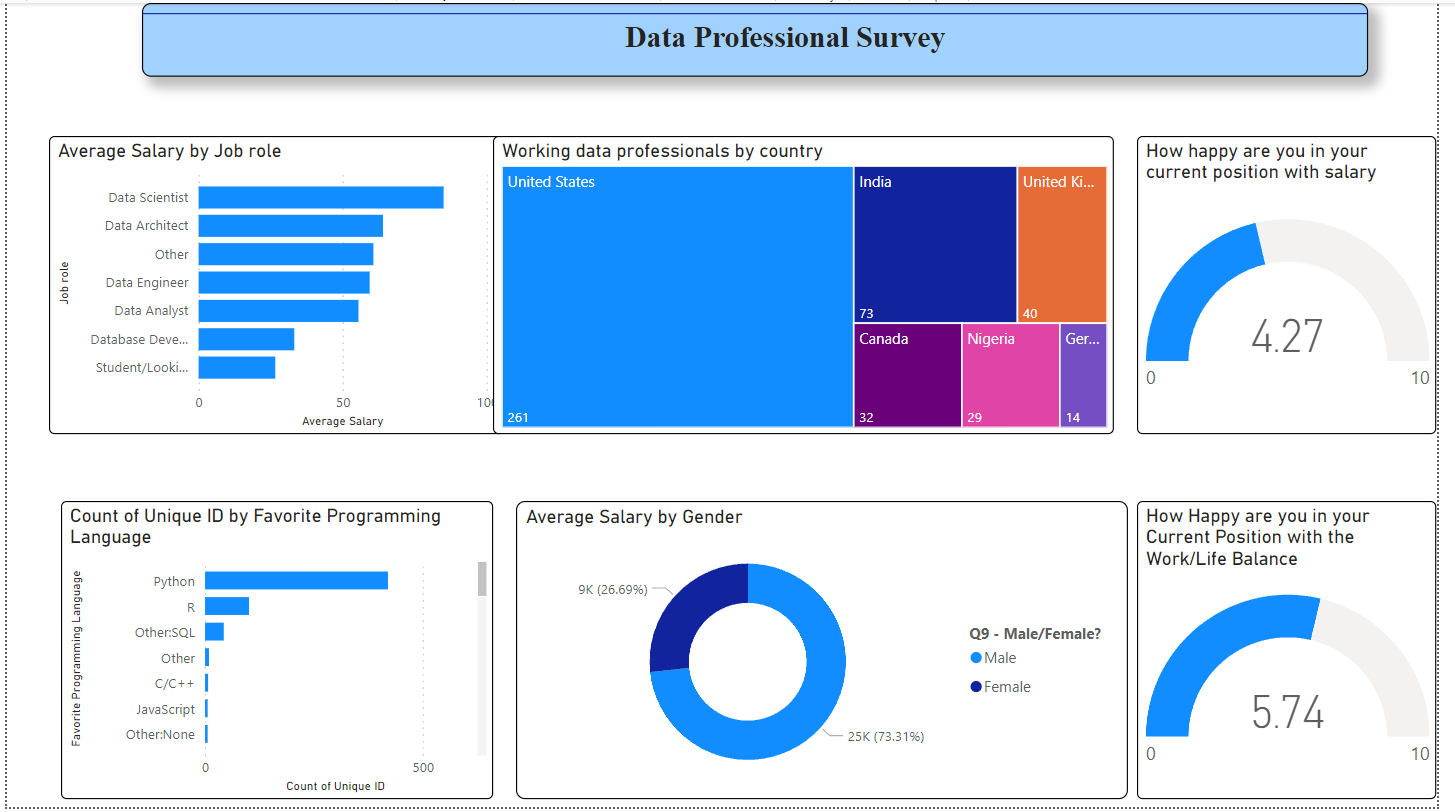

The page's visual inventory and layout, read from the dashboard file:
{"tool":"powerbi","page":{"name":"Page 2","canvas":[1280,720],"ordinal":1},"visuals":[{"type":"clusteredBarChart","fields":{"Category":["EditedData Professional Survey_edited.Q1 - Which Title Best Fits your Current Role?.1.1"],"Y":["Avg(EditedData Professional Survey_edited.Average Salary)"]},"box":[38,119,408,267],"z":0},{"type":"textbox","box":[120.9,0,1098.1,65.9],"z":1},{"type":"barChart","fields":{"Category":["EditedData Professional Survey_edited.Q5 - Favorite Programming Language"],"Y":["CountNonNull(EditedData Professional Survey_edited.Unique ID)"]},"box":[48,446,387,267],"z":2},{"type":"treemap","title":"Working data professionals by country","fields":{"Values":["CountNonNull(EditedData Professional Survey_edited.Country)"],"Group":["EditedData Professional Survey_edited.Q11 - Which Country do you live in?.1"]},"box":[435,119,556,267],"z":3},{"type":"donutChart","title":"Average Salary by Gender","fields":{"Y":["Sum(EditedData Professional Survey_edited.Average Salary)"],"Category":["EditedData Professional Survey_edited.Q9 - Male/Female?"]},"box":[456,446,548,267],"z":4},{"type":"gauge","title":"How happy are you in your current position with salary","fields":{"Y":["Avg(EditedData Professional Survey_edited.Q6 - How Happy are you in your Current Position with the following? (Salary))"],"MinValue":["Min(EditedData Professional Survey_edited.Q6 - How Happy are you in your Current Position with the following? (Upward Mo"],"MaxValue":["Max(EditedData Professional Survey_edited.Q6 - How Happy are you in your Current Position with the following? (Salary))"]},"box":[1012,119,268,267],"z":5},{"type":"gauge","title":"How Happy are you in your Current Position with the Work/Life Balance","fields":{"Y":["Avg(EditedData Professional Survey_edited.Q6 - How Happy are you in your Current Position with the following? (Work/Life"],"MinValue":["Min(EditedData Professional Survey_edited.Q6 - How Happy are you in your Current Position with the following? (Work/Life"],"MaxValue":["Max(EditedData Professional Survey_edited.Q6 - How Happy are you in your Current Position with the following? (Work/Life"]},"box":[1012,446,268,267],"z":6}]}

Visuals, with their boxes in screenshot pixels (x1, y1, x2, y2), scaled from the page's 1280x720 canvas onto the 1455x812 screenshot:
clusteredBarChart - EditedData Professional Survey_edited.Q1 - Which Title Best Fits your Current Role?.1.1 x Avg(EditedData Professional Survey_edited.Average Salary): {"x1": 43, "y1": 134, "x2": 507, "y2": 435}
textbox: {"x1": 137, "y1": 0, "x2": 1386, "y2": 74}
barChart - EditedData Professional Survey_edited.Q5 - Favorite Programming Language x CountNonNull(EditedData Professional Survey_edited.Unique ID): {"x1": 55, "y1": 503, "x2": 494, "y2": 804}
"Working data professionals by country" treemap: {"x1": 494, "y1": 134, "x2": 1126, "y2": 435}
"Average Salary by Gender" donutChart: {"x1": 518, "y1": 503, "x2": 1141, "y2": 804}
"How happy are you in your current position with salary" gauge: {"x1": 1150, "y1": 134, "x2": 1454, "y2": 435}
"How Happy are you in your Current Position with the Work/Life Balance" gauge: {"x1": 1150, "y1": 503, "x2": 1454, "y2": 804}
